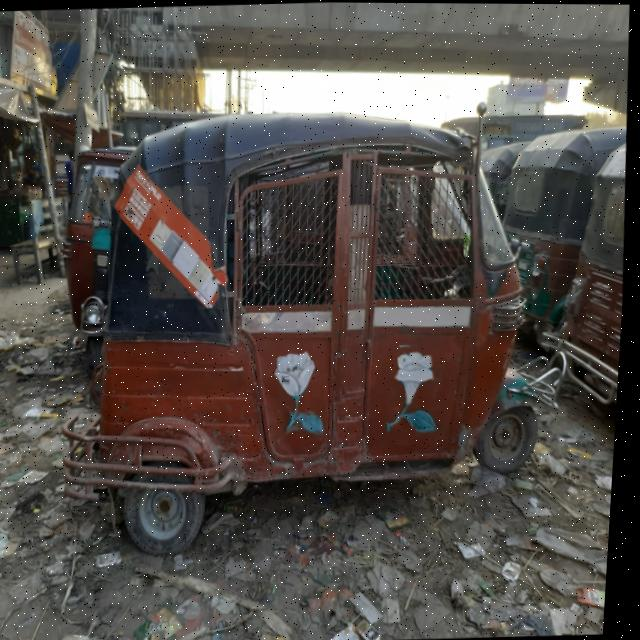cng: (30, 98, 548, 606)
